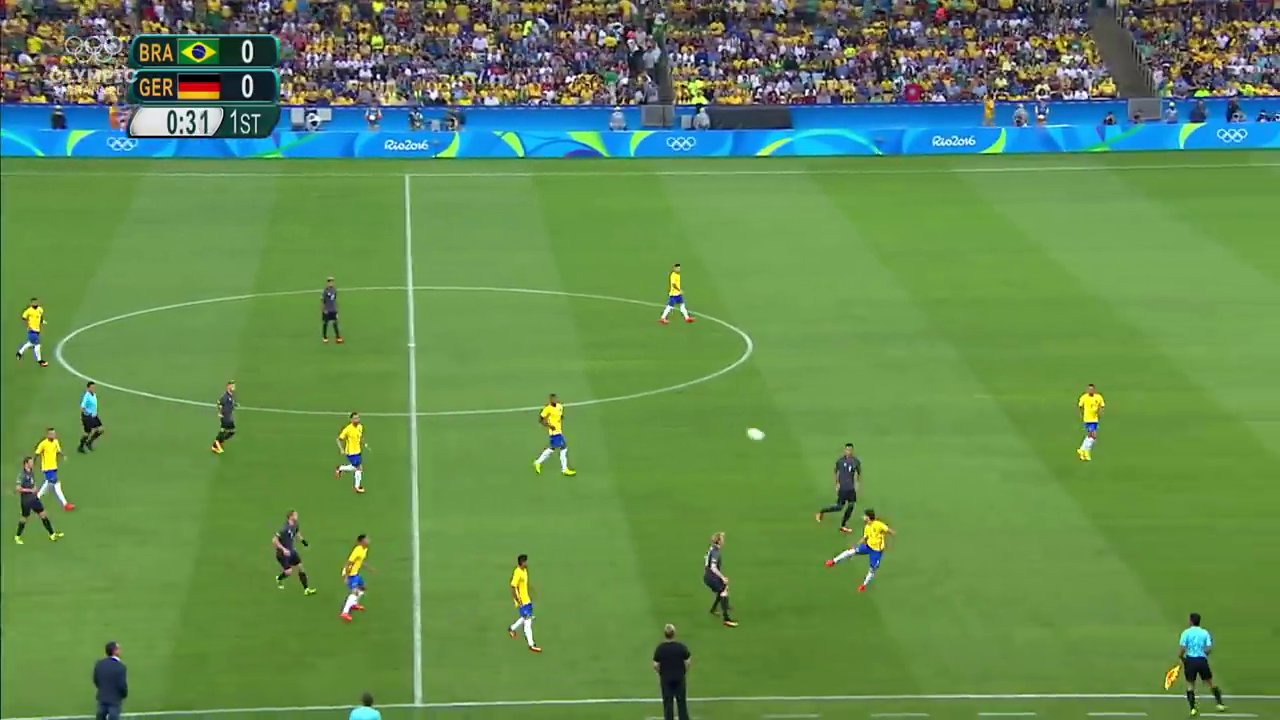ball: (742, 423, 761, 444)
player: (820, 510, 895, 591), (11, 459, 65, 544), (813, 442, 861, 533), (532, 391, 579, 477), (30, 428, 76, 513), (503, 555, 541, 651), (701, 531, 736, 629), (273, 506, 311, 593), (331, 409, 366, 495), (211, 378, 242, 457), (656, 262, 692, 328), (339, 534, 366, 616), (1077, 380, 1102, 464), (19, 298, 47, 364), (319, 275, 344, 343), (78, 381, 101, 451)
